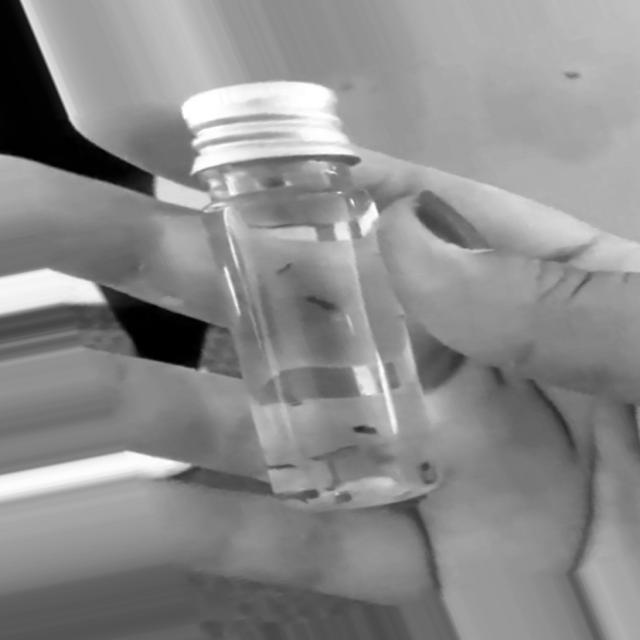larvas: (273, 488, 315, 505), (312, 446, 347, 461), (324, 457, 340, 488), (270, 458, 299, 474), (307, 296, 337, 309), (421, 465, 438, 484), (352, 423, 378, 434), (277, 262, 291, 273)
